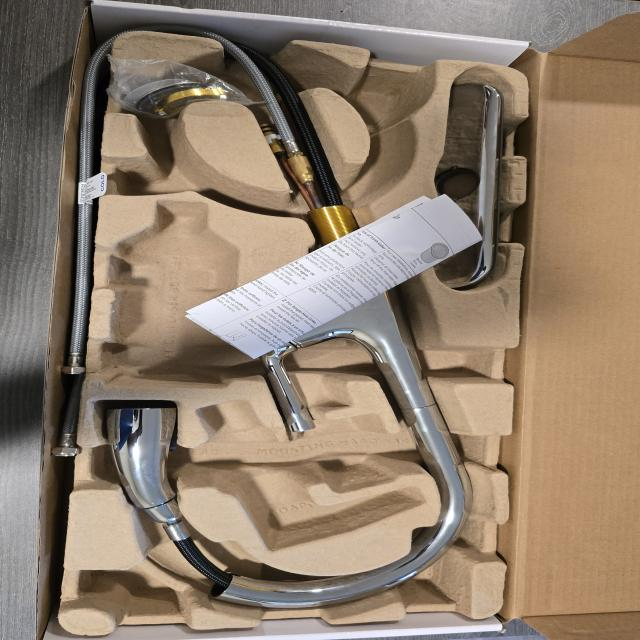1o: (106, 45, 472, 608)
2m: (198, 402, 422, 550)
3m: (105, 199, 235, 388)
4o: (431, 84, 504, 290)
5m: (354, 73, 429, 128)
6: (110, 54, 266, 119)
7m: (114, 130, 244, 207)
8: (181, 193, 486, 361)
